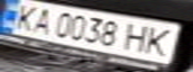0: (48, 9, 75, 39), (66, 11, 87, 43)
3: (84, 15, 106, 47)
8: (100, 17, 124, 50)
A: (27, 5, 57, 35)
H: (121, 21, 154, 54)
K: (139, 25, 181, 57), (3, 1, 45, 31)
